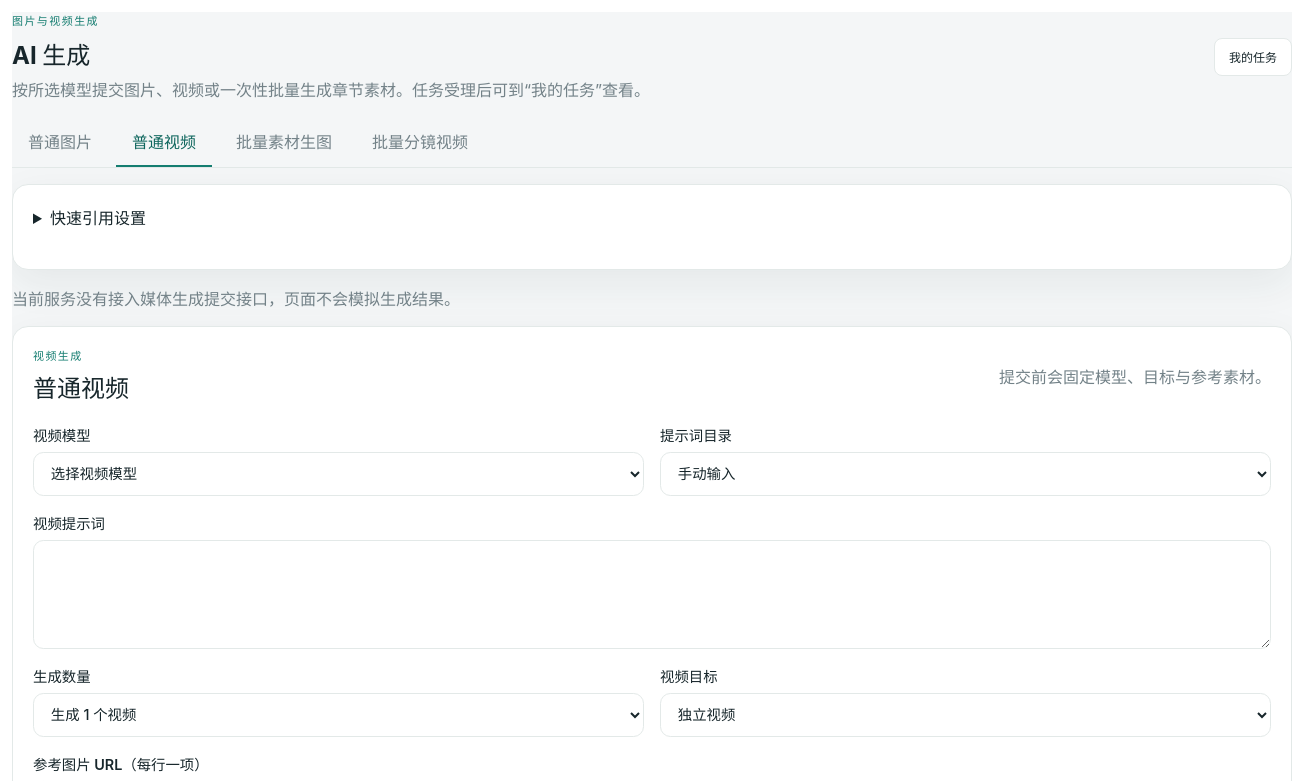
Test case: MediaGenerationPage › offers a user-visible batch storyboard video workflow
The image size is (1304, 781).
Step 1. Click the button "批量分镜视频" → (420,142), box top-left (356, 117), bottom-right (484, 167)
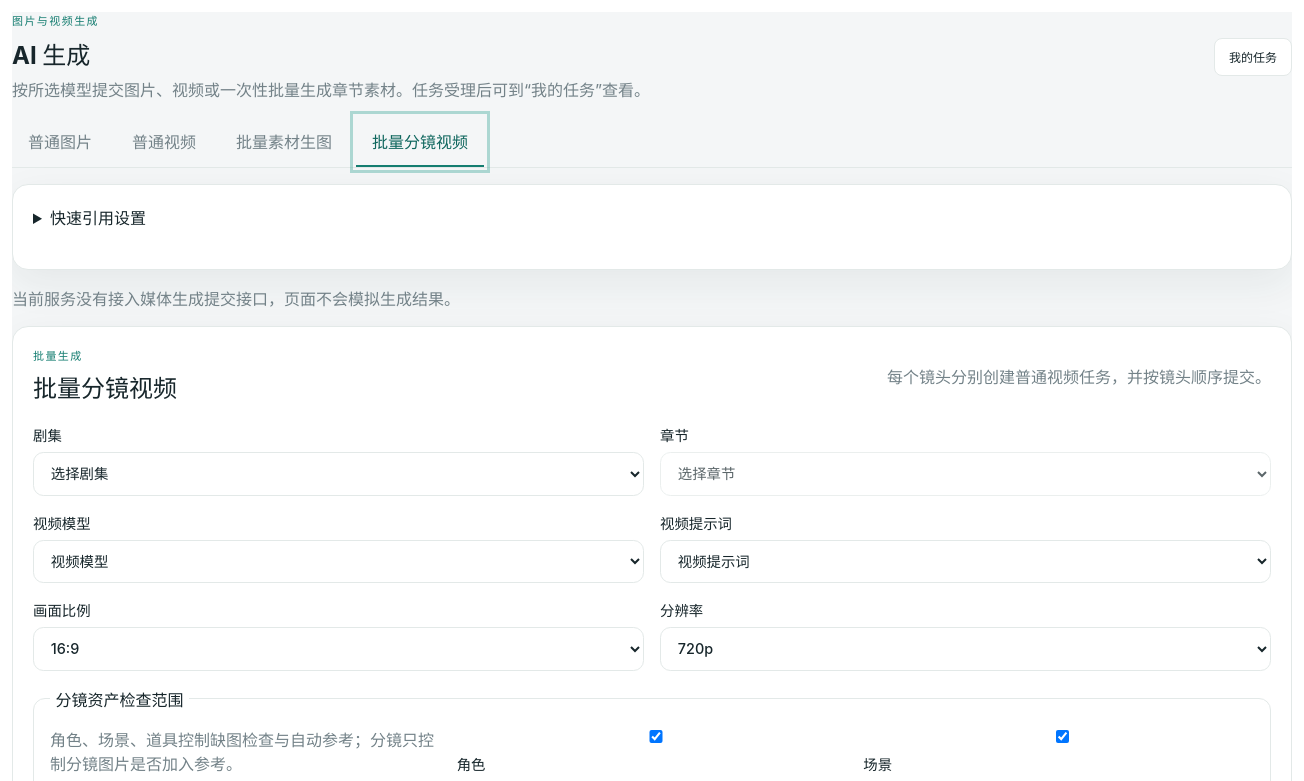
Now the heading "批量分镜视频" is shown, box top-left (33, 369), bottom-right (177, 404)
